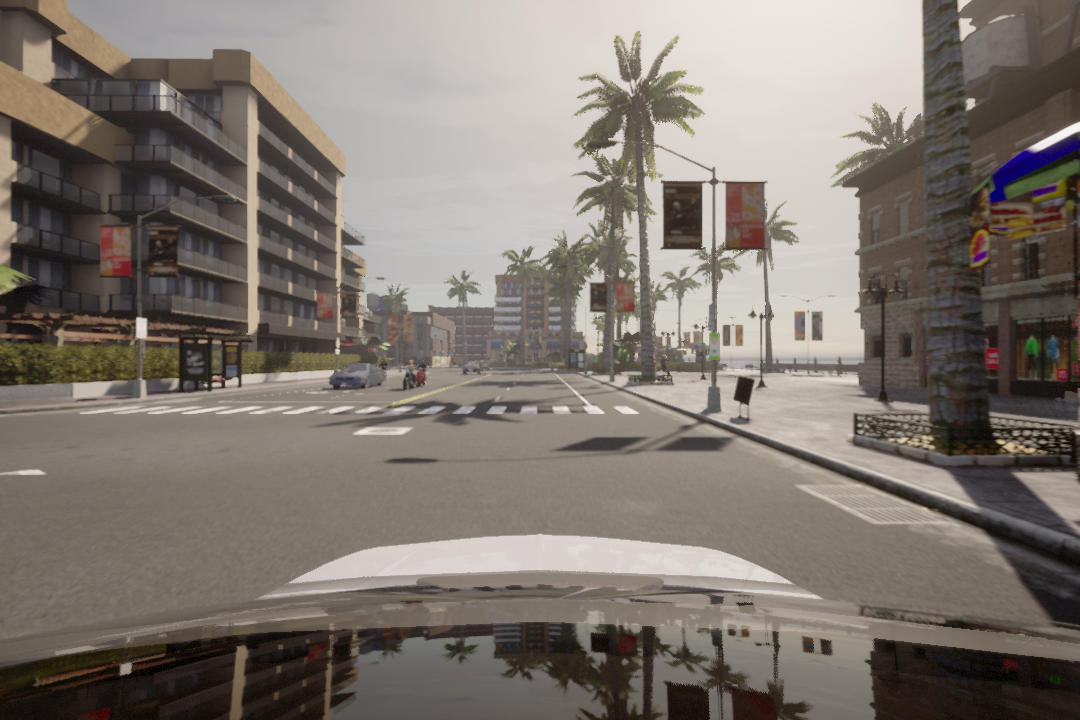walkside: (81, 403, 651, 418)
